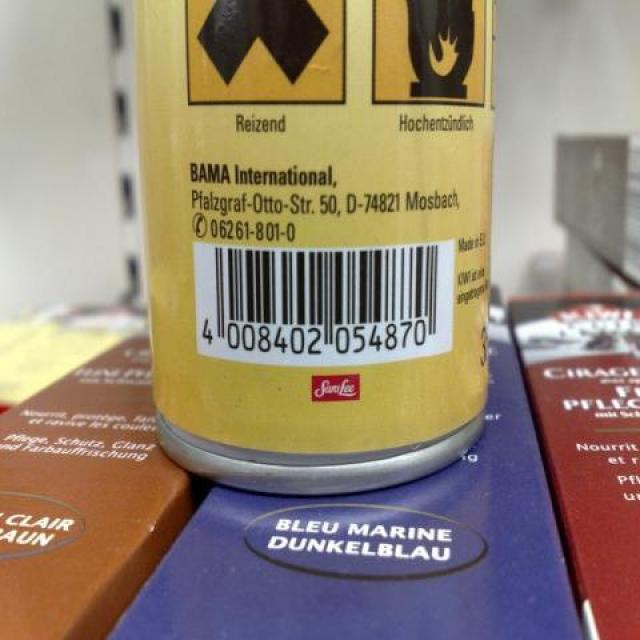Barcode: (196, 238, 453, 362)
